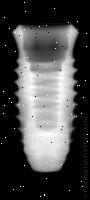Cowellmedi: (11, 24, 80, 174)
